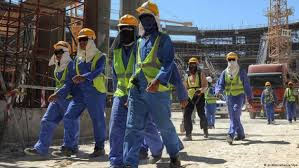helmet: (118, 12, 138, 28), (139, 1, 161, 14), (79, 27, 98, 38), (52, 40, 72, 50), (225, 50, 237, 59), (189, 55, 197, 63), (266, 80, 270, 86)
vest: (139, 38, 170, 92), (74, 57, 109, 93), (115, 49, 136, 97), (52, 67, 72, 99), (184, 72, 206, 98), (225, 71, 246, 94), (262, 90, 276, 103), (287, 90, 298, 103)
